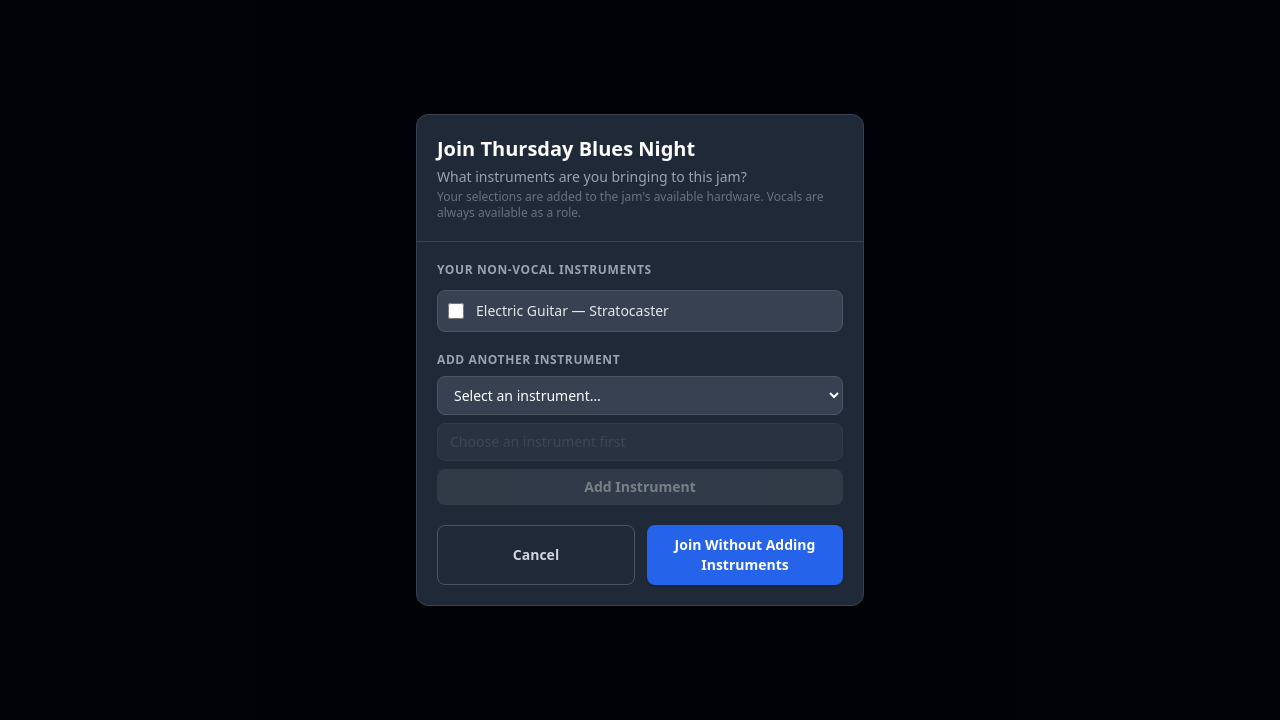
it: JoinJamModal › removes a selected instrument from the summary chips
This screenshot has width=1280, height=720.
What coordinates should you click on to do the following:
click the checkbox labelled "Electric Guitar — Stratocaster"
I would click on:
 (456, 311)
Its box is x1=448 y1=303 x2=464 y2=319.
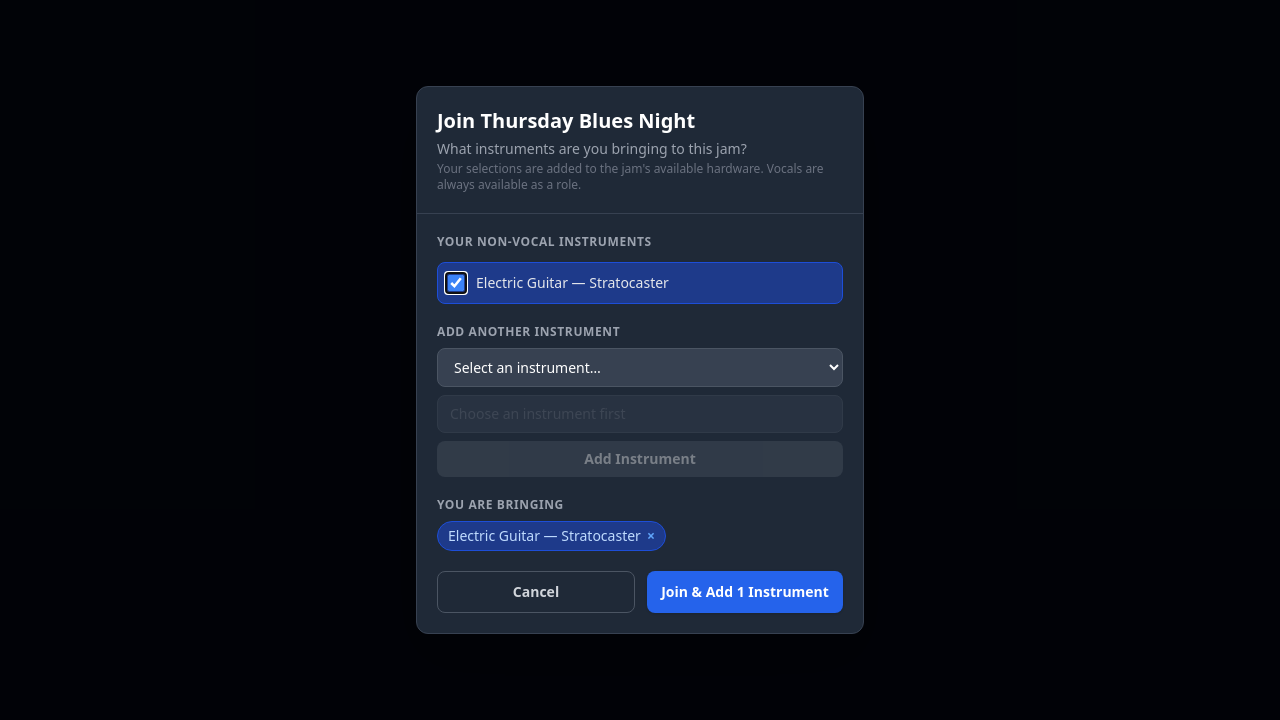
Now the text "You are bringing" is shown, box x1=437 y1=496 x2=564 y2=513
What coordinates should you click on to do the following:
click the button "×"
I would click on:
 (651, 536)
Its box is x1=647 y1=529 x2=655 y2=543.
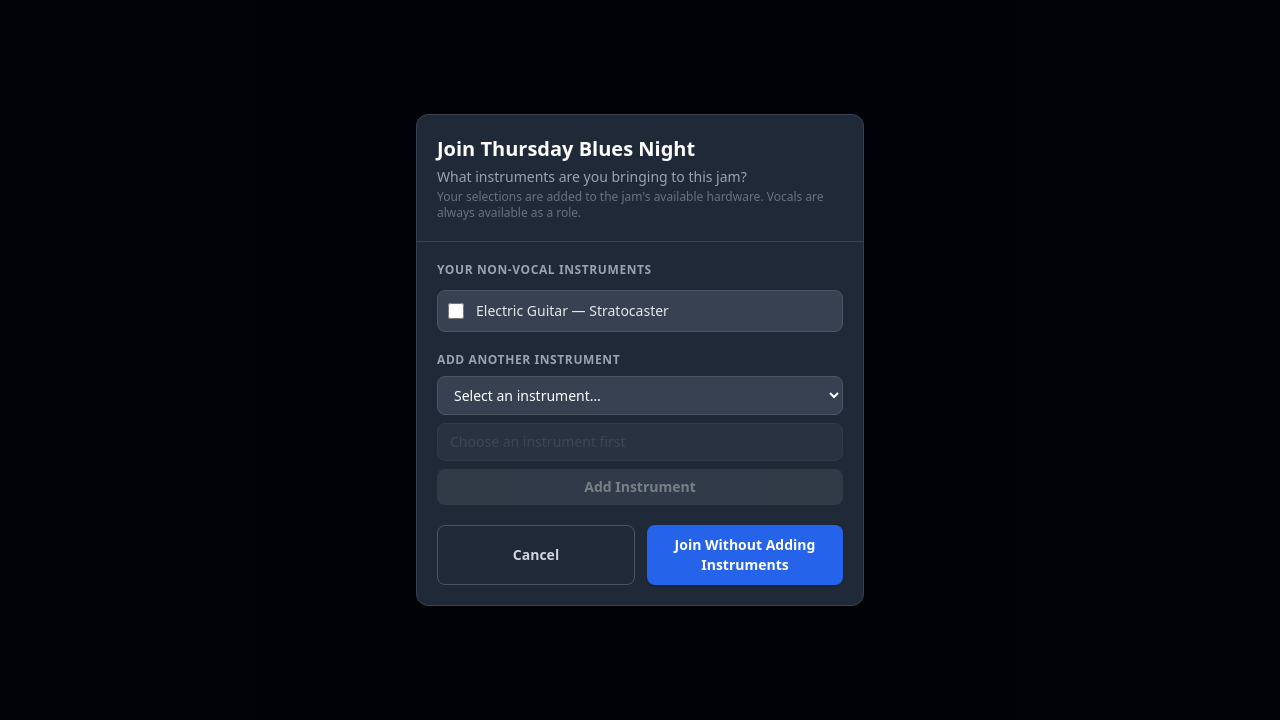
Now the text "You are bringing" is gone
